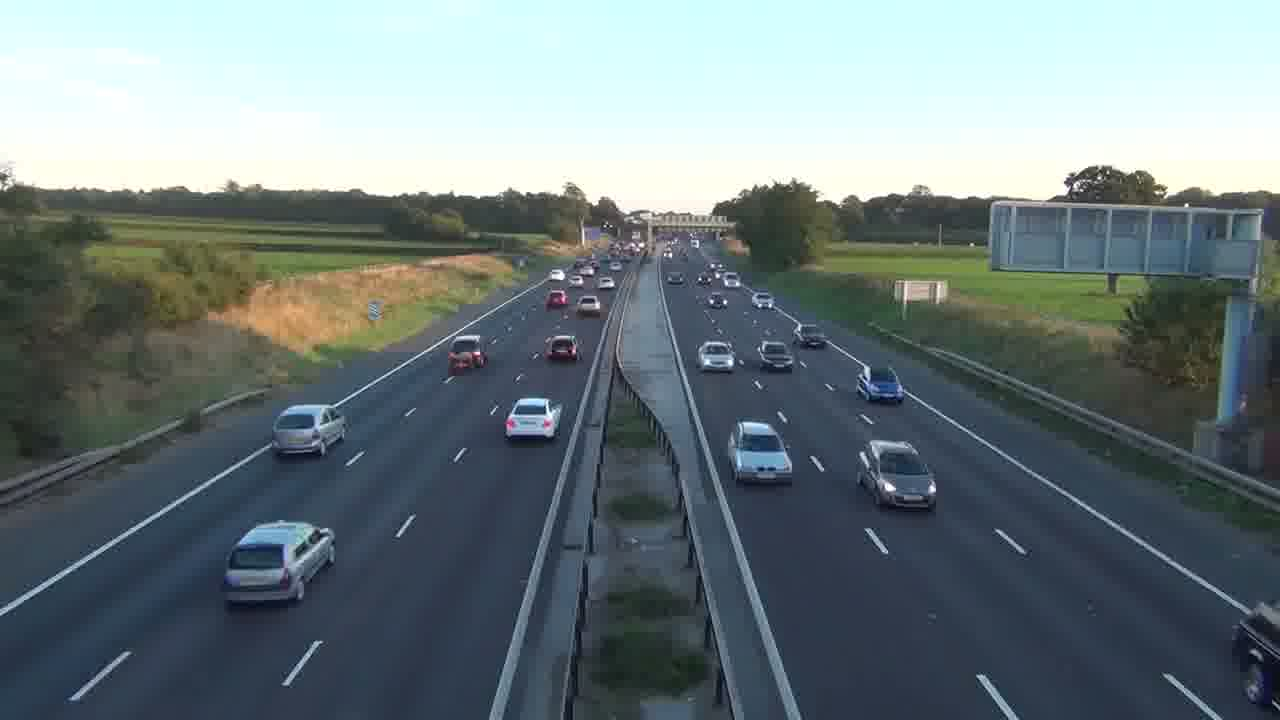car: (222, 520, 336, 605), (856, 439, 938, 511), (727, 419, 794, 486), (270, 404, 348, 457), (505, 396, 564, 441), (856, 365, 904, 405), (696, 340, 737, 373), (758, 340, 794, 373), (544, 334, 580, 362), (576, 295, 602, 317), (545, 288, 569, 310)
